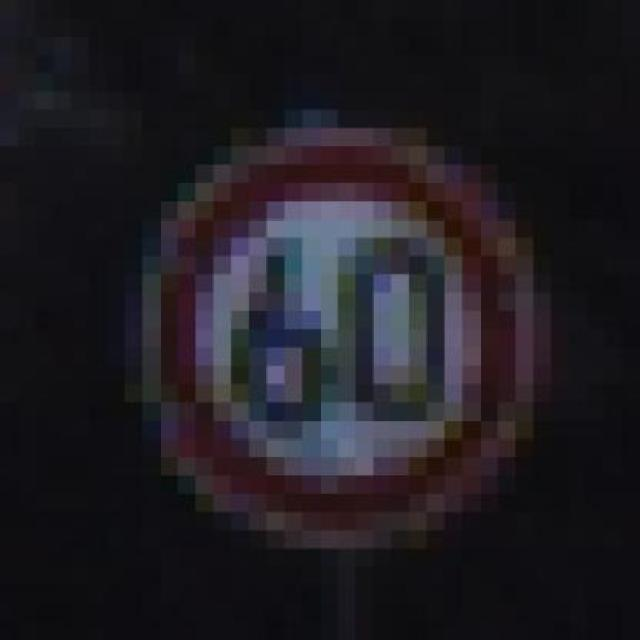forb_speed_over_60: (151, 139, 520, 536)
